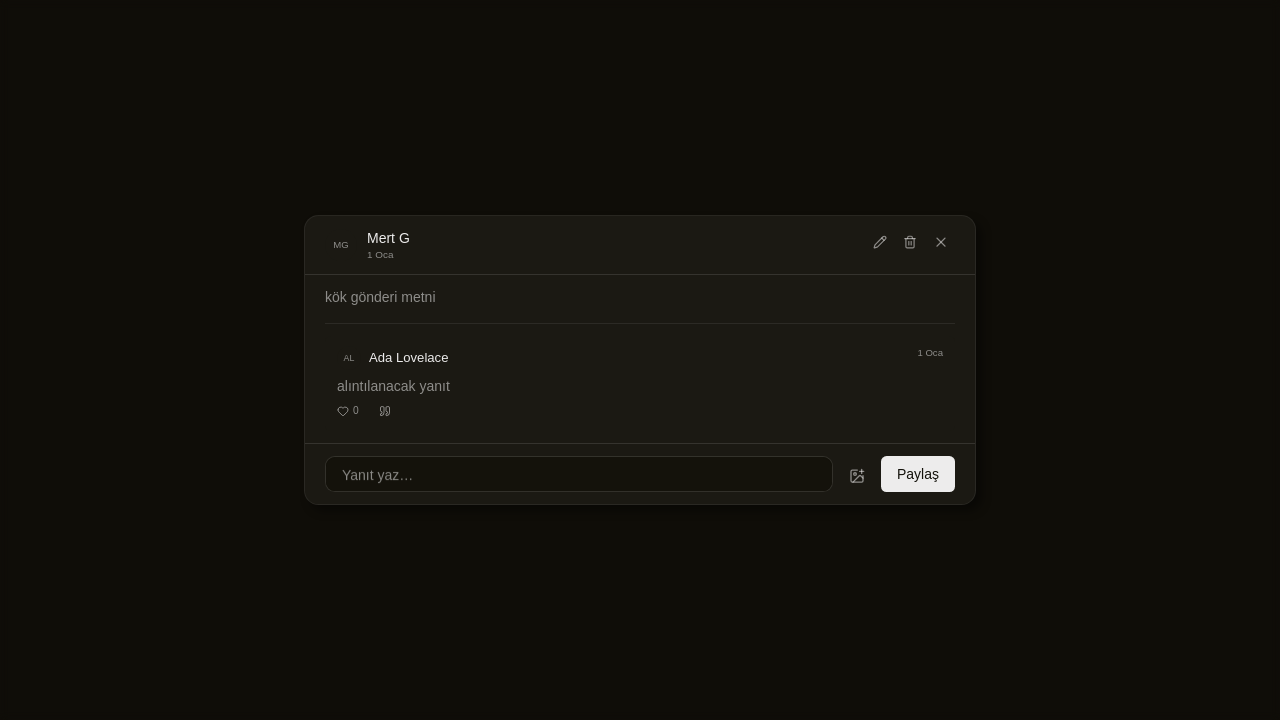
it: ThreadPopup › stages a quote from a reply's quote button into the reply composer
The width and height of the screenshot is (1280, 720).
What coordinates should you click on to do the following:
click the button named "Alıntıla"
I would click on:
 (385, 412)
Its box is 375,404 -> 395,420.
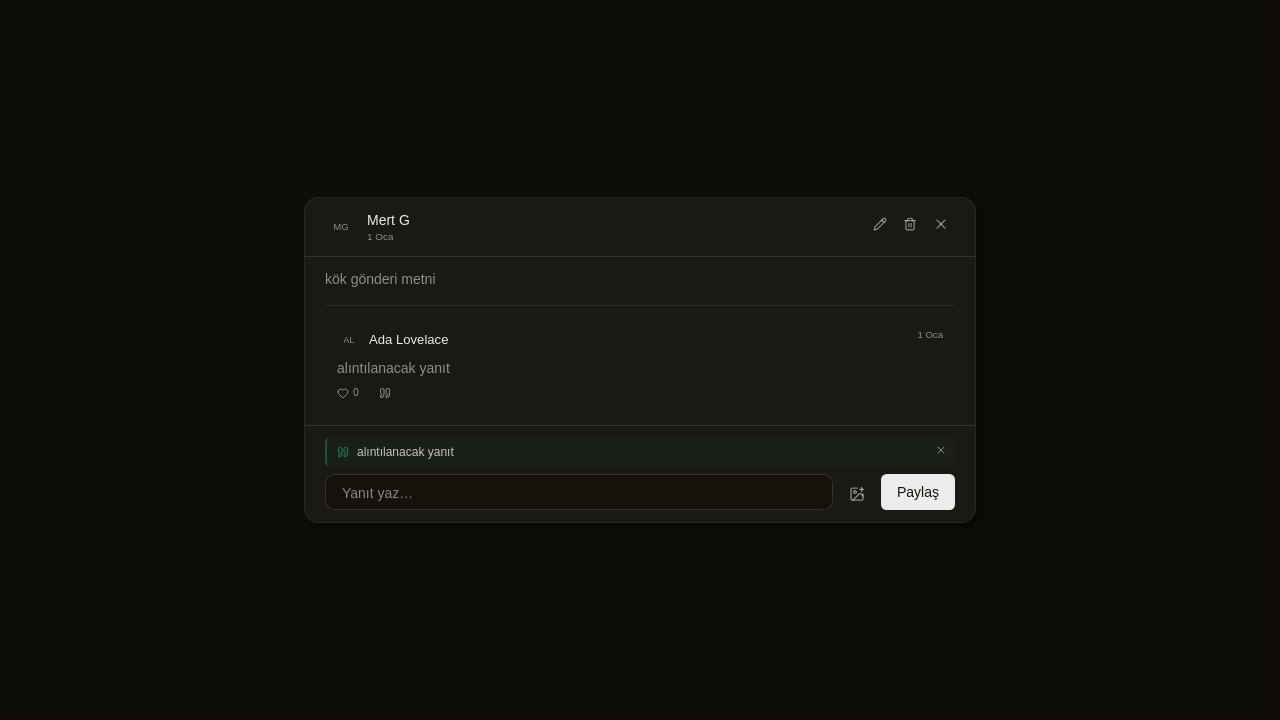
Expected: the text "alıntılanacak yanıt" is shown 2 times, 337,360 -> 450,376; 357,445 -> 454,459
Now the button named "Alıntıyı kaldır" is shown, box 935,444 -> 947,456
